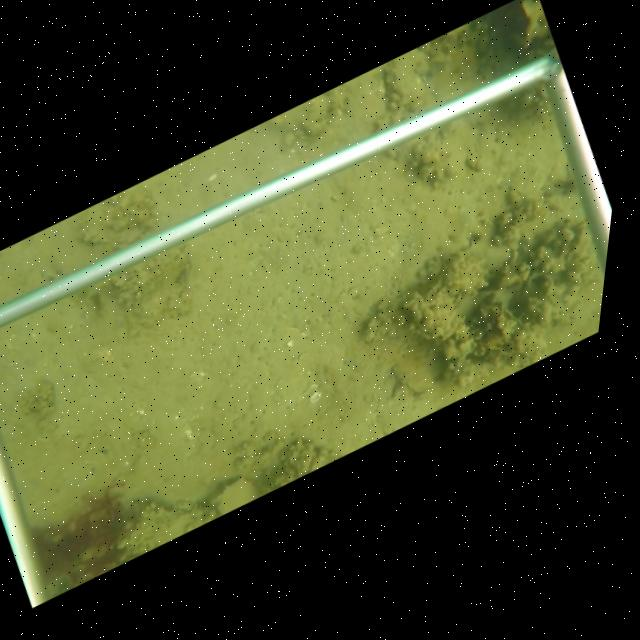Oyster-Closed: (506, 306, 529, 333)
Oyster-Indeterminate: (216, 474, 263, 515), (388, 355, 436, 395)
